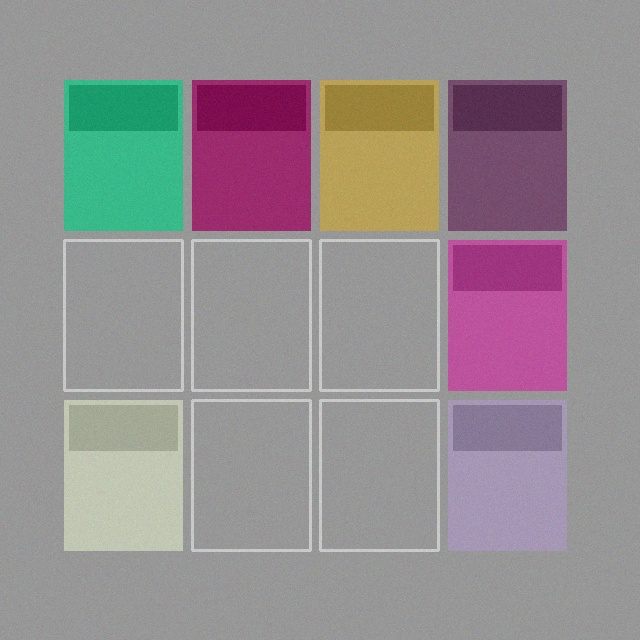space-empty: (64, 240, 182, 390), (192, 240, 310, 390), (320, 240, 438, 390), (192, 400, 310, 550), (320, 400, 438, 550)
space-occupied: (64, 80, 182, 230), (192, 80, 310, 230), (320, 80, 438, 230), (448, 80, 566, 230), (448, 240, 566, 390), (64, 400, 182, 550), (448, 400, 566, 550)
